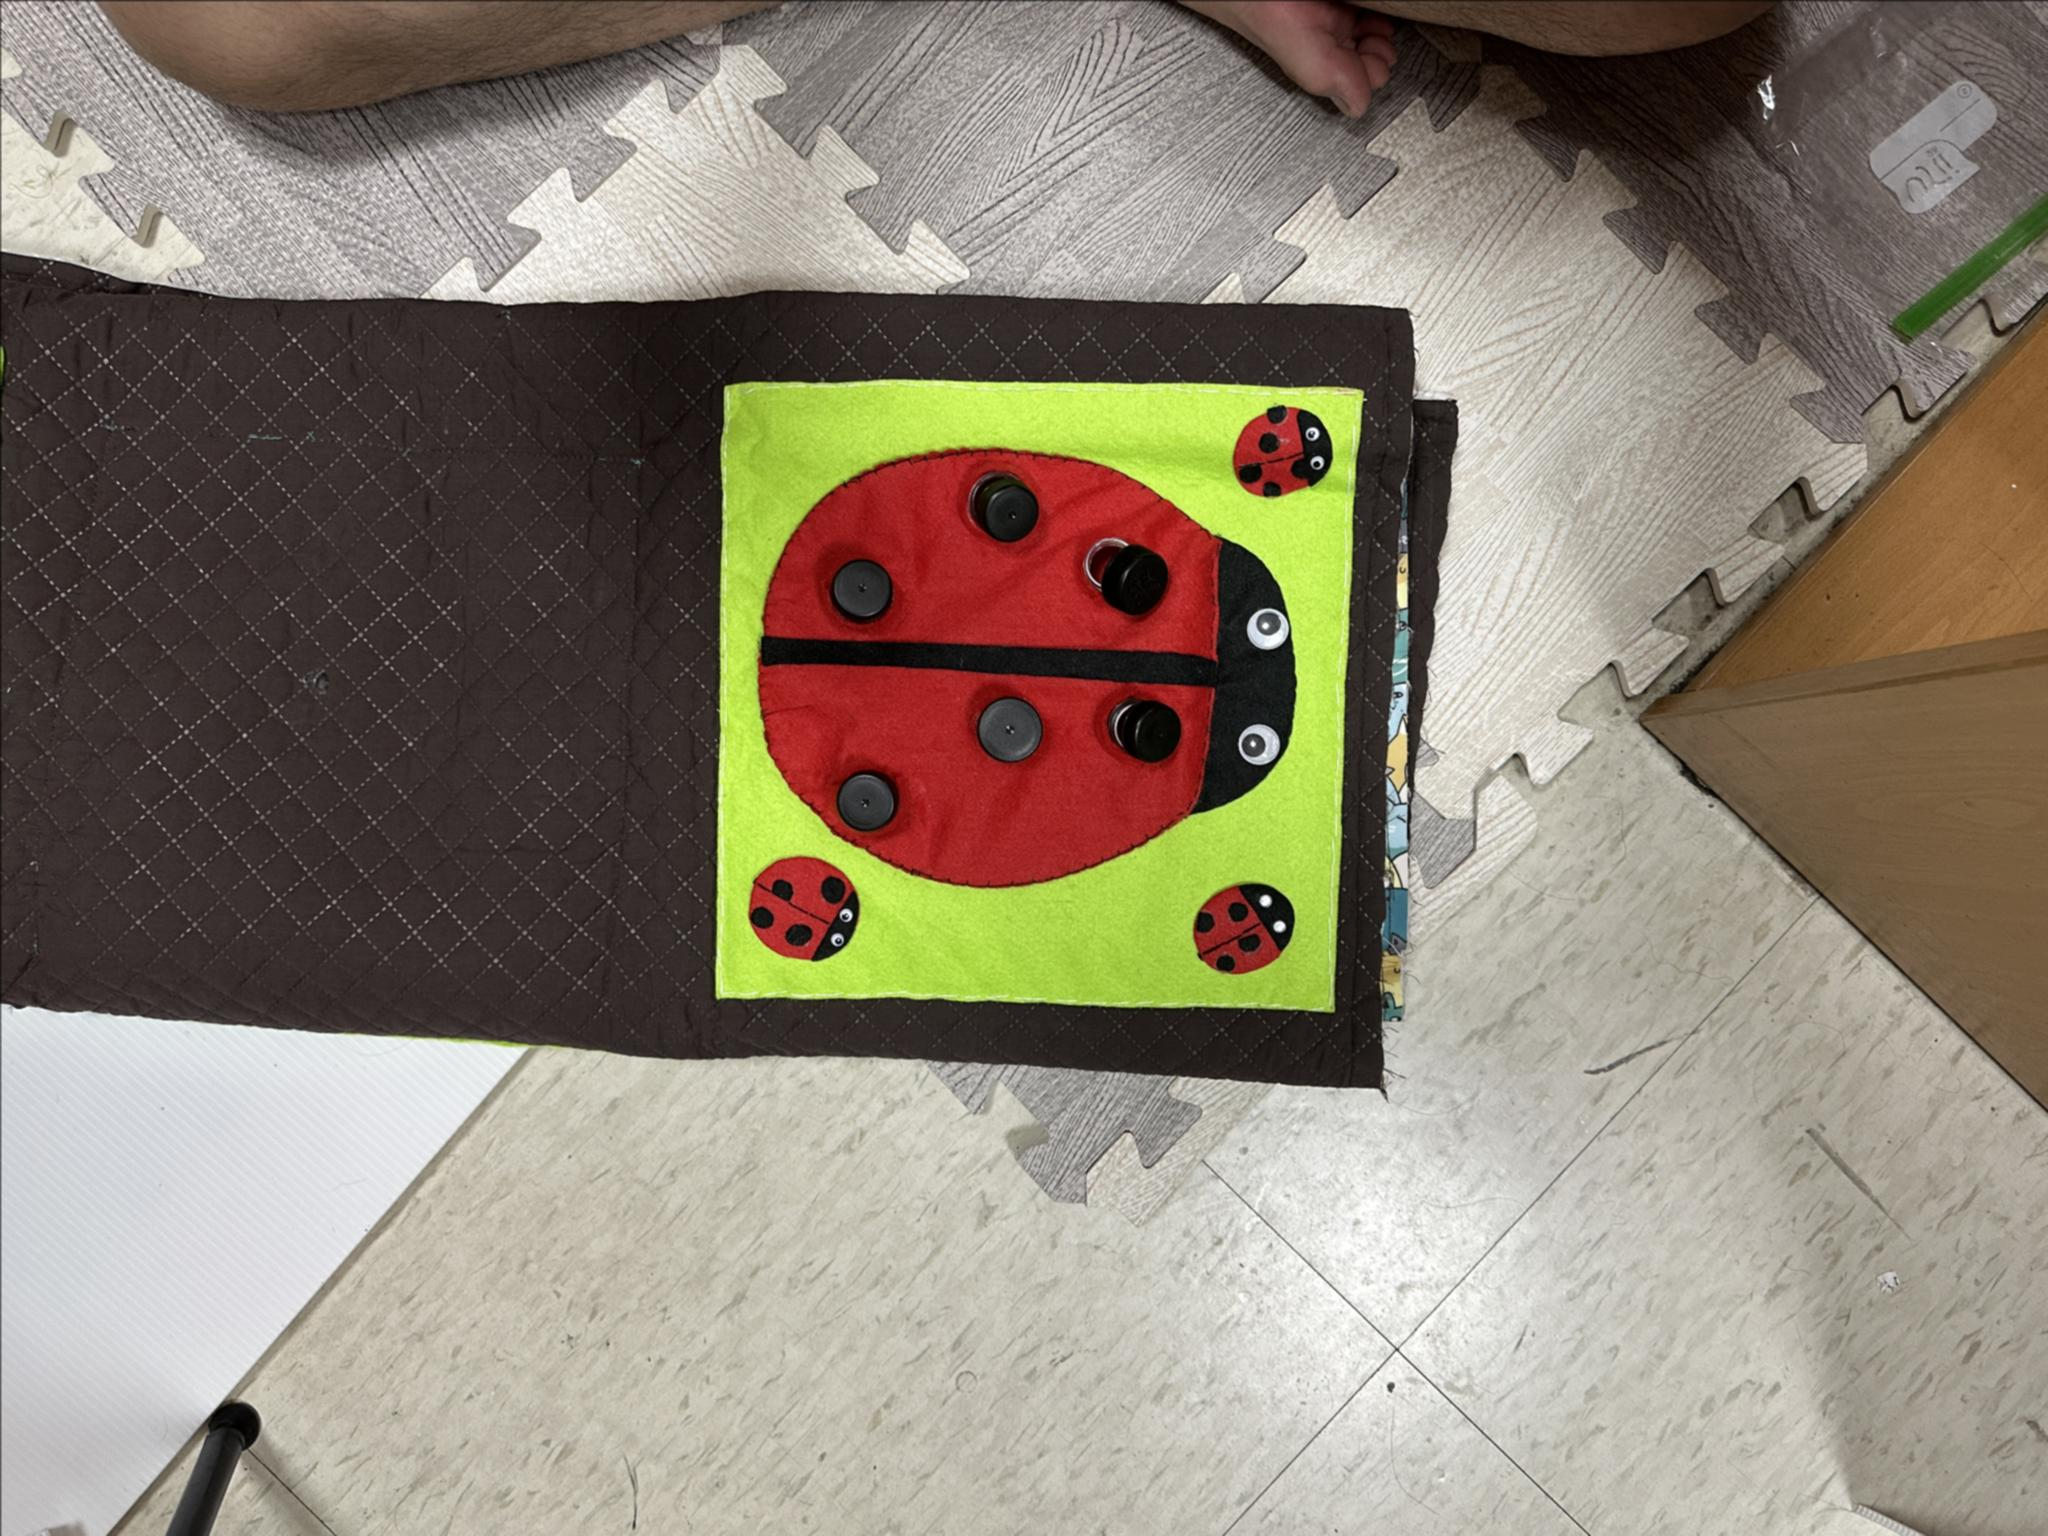cap_ng: (948, 458, 1059, 558), (1068, 531, 1177, 628), (1089, 681, 1188, 778)
cap_ok: (951, 686, 1061, 776), (818, 541, 919, 637), (824, 752, 911, 847)
